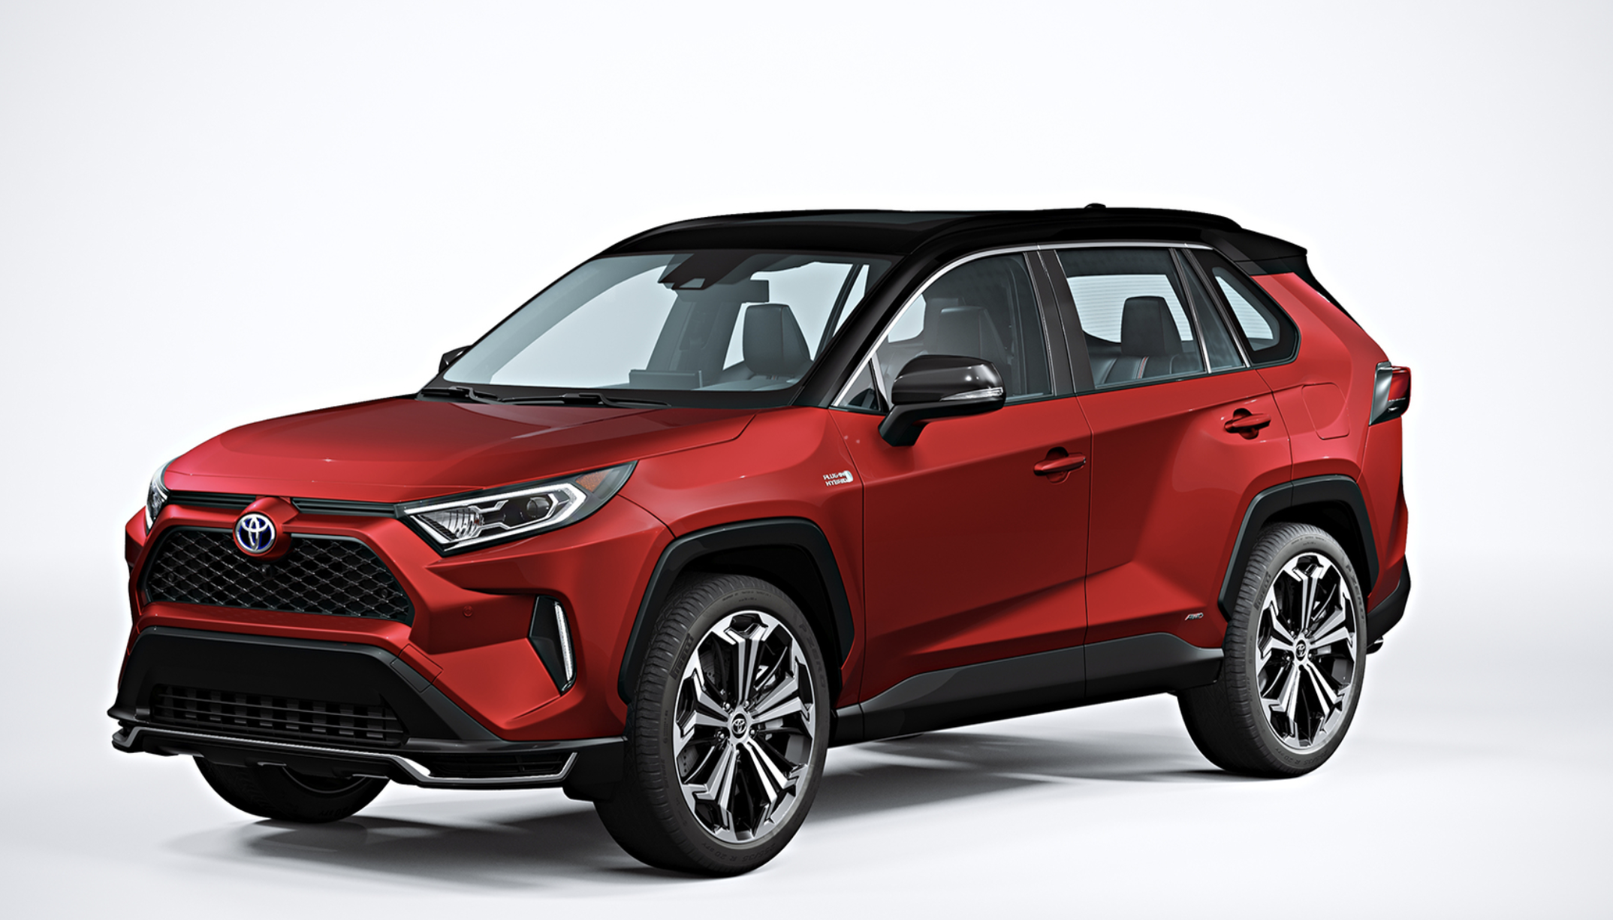hatch: (1297, 379, 1356, 446)
